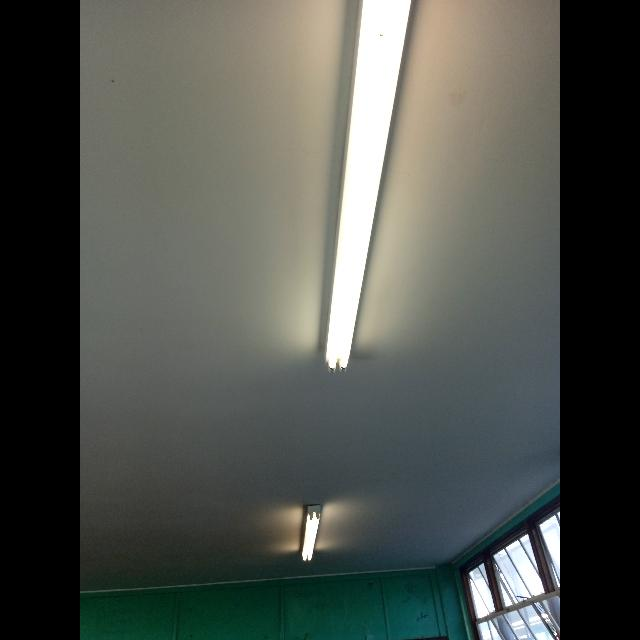Straight-Tube-Fluorescent-Lamp: (316, 0, 410, 378), (290, 498, 328, 574)
